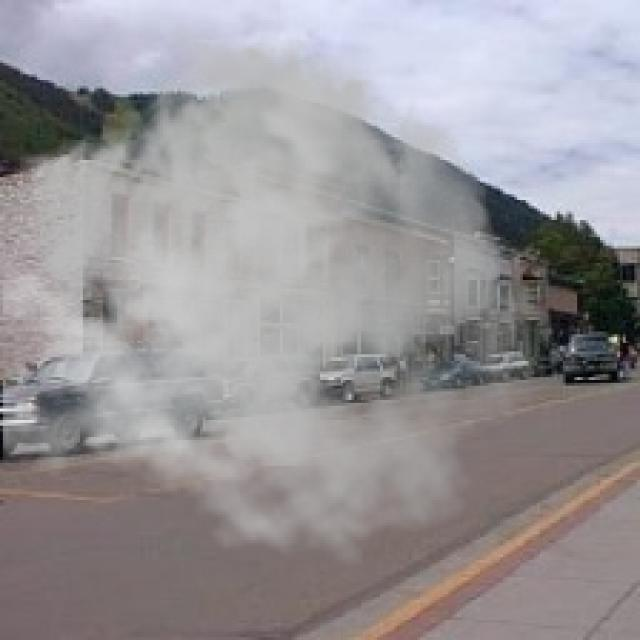smoke: (3, 20, 548, 569)
